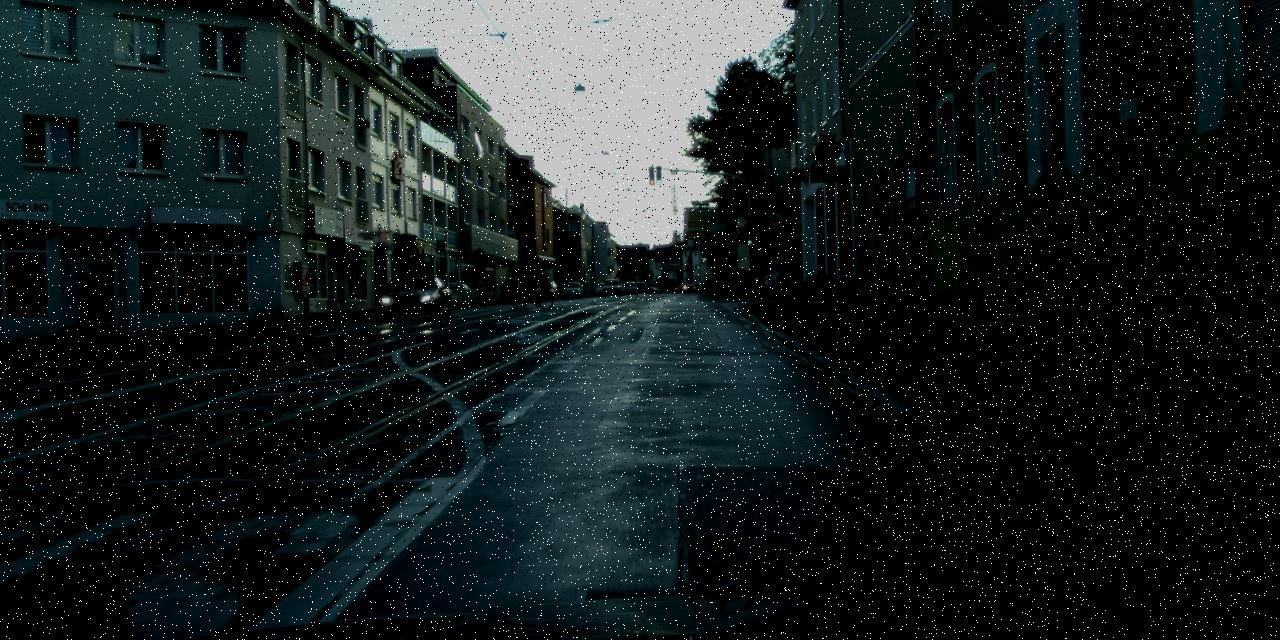ped: (523, 264, 539, 304), (730, 272, 740, 294)
